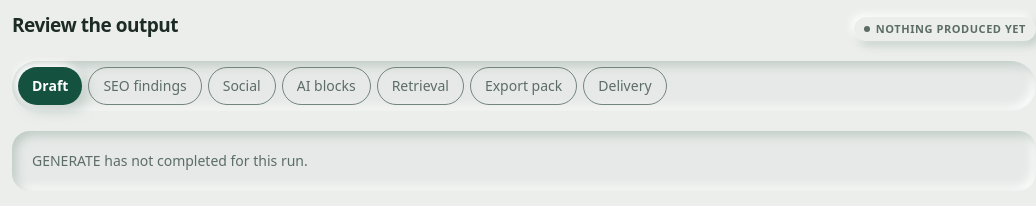
Test case: a run that produced nothing › names a different node in every empty tab
The image size is (1036, 206).
Check: the panel reads "GENERATE has not completed for this run.", box [32, 151, 308, 170]
Click the tab "SEO findings" at (145, 86), box [88, 67, 202, 105]
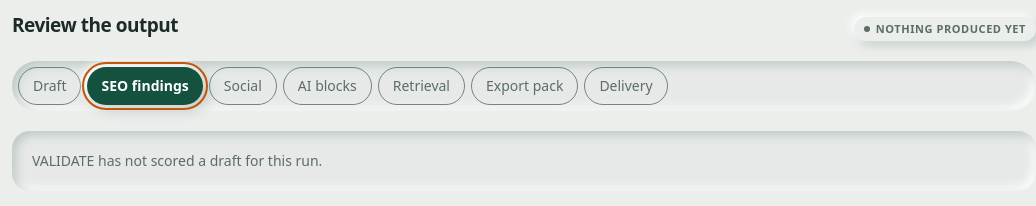
Check: the panel reads "VALIDATE has not scored a draft for this run.", box [32, 151, 322, 170]
Click the tab "Social" at (243, 86), box [209, 67, 277, 105]
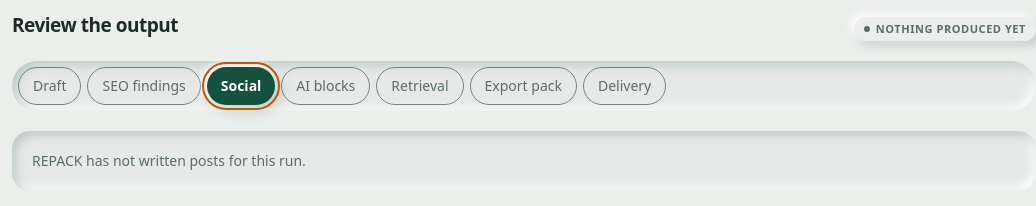
Check: the panel reads "REPACK has not written posts for this run.", box [32, 151, 306, 170]
Click the tab "AI blocks" at (326, 86), box [281, 67, 370, 105]
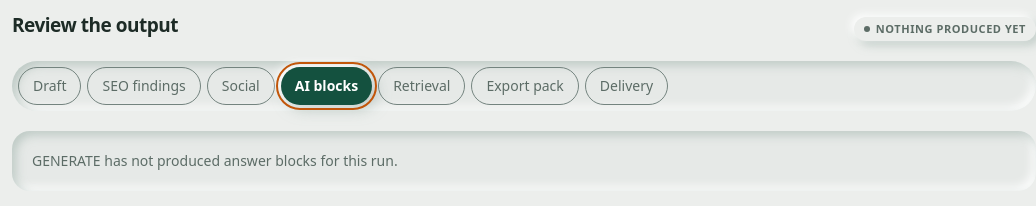
Check: the panel reads "GENERATE has not produced answer blocks for this run.", box [32, 151, 398, 170]
